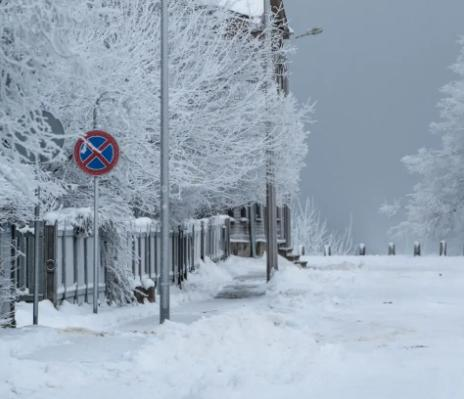obstructed_road_sign: (73, 130, 121, 176)
